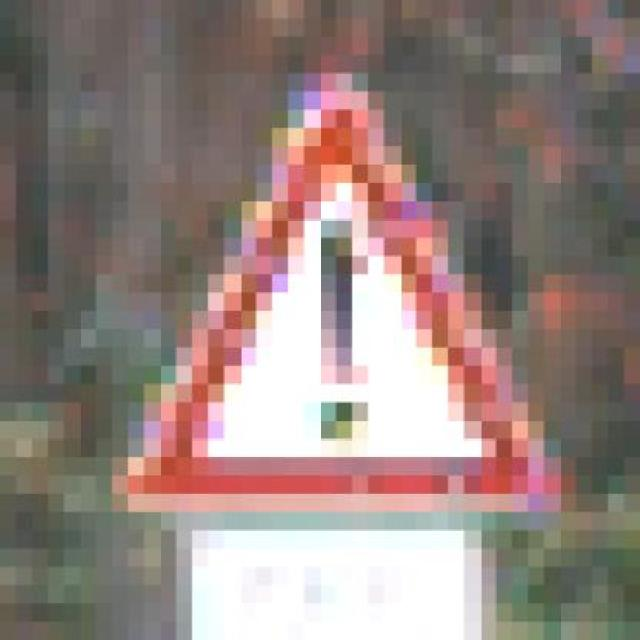Attention Please-: (80, 54, 592, 548)
